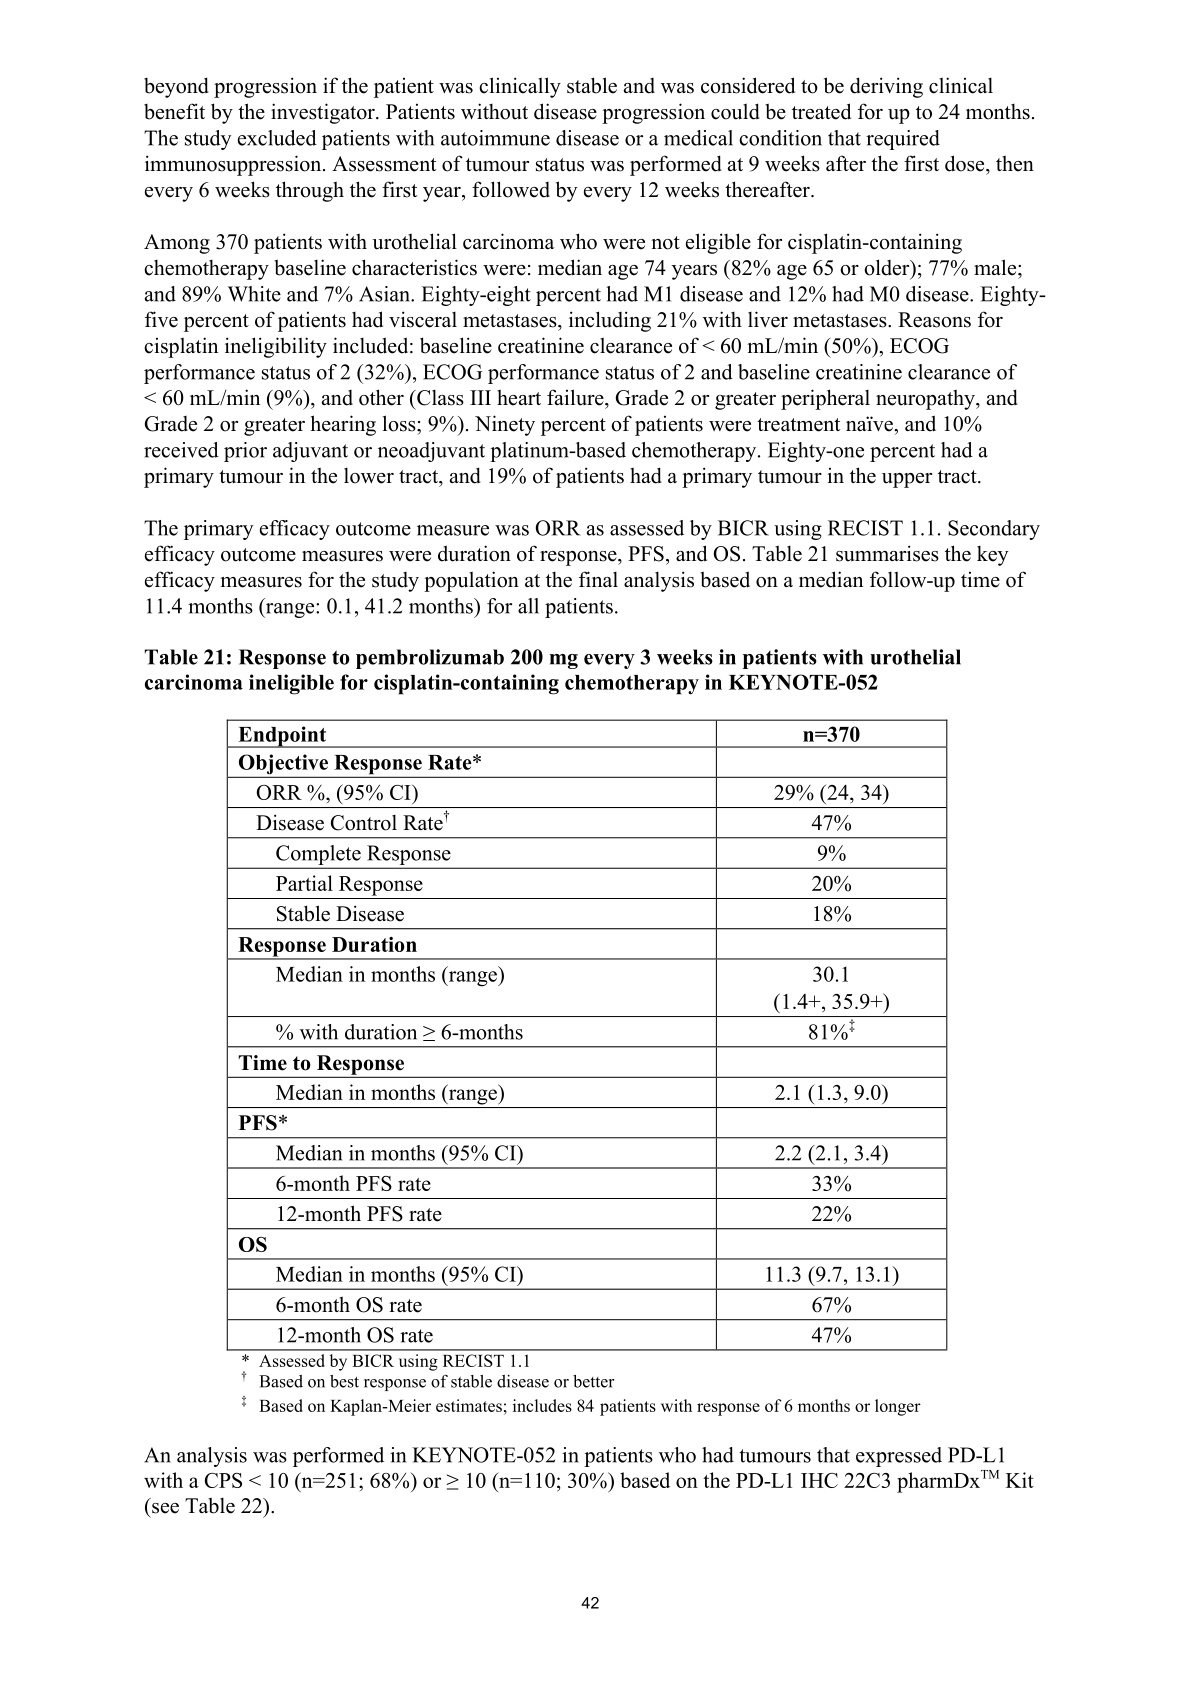full_lined: (226, 718, 949, 1352)
